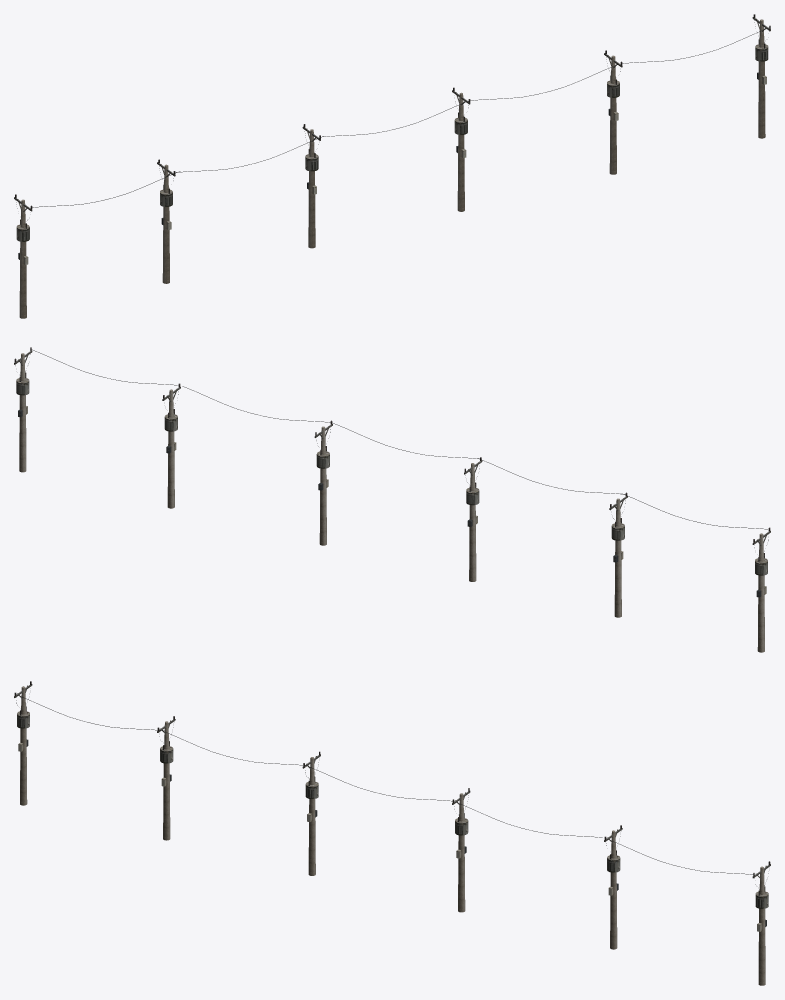
Rendered from postes.glb.
3 renders of one model, top to bottom at view 1: azimuth 30°, elevation 25°; view 2: azimuth 150°, elevation 25°; view 3: azimuth 330°, elevation 25°, orthographic.
Parts seen in each view (by area): view 1: Vert.015, Vert.012, Vert.019, Vert.010, Vert.014, Vert.017; view 2: Vert.015, Vert.012, Vert.017, Vert.014, Vert.010, Vert.019; view 3: Vert.015, Vert.012, Vert.014, Vert.017, Vert.010, Vert.019.
Part boxes in pixels (x1,y1,x2,y2): Vert.015: (752,14,770,138); Vert.012: (302,124,320,248); Vert.019: (14,194,32,318); Vert.010: (452,87,470,211); Vert.014: (604,50,622,174); Vert.017: (157,159,175,283); Vert.015: (14,347,32,472); Vert.012: (464,457,482,581); Vert.017: (609,492,627,617); Vert.014: (162,383,180,508); Vert.010: (314,420,332,545); Vert.019: (752,527,770,652); Vert.015: (752,861,770,985); Vert.012: (302,751,320,875); Vert.014: (604,825,622,949); Vert.017: (157,716,175,840); Vert.010: (452,788,470,912); Vert.019: (14,681,32,805).
Bounding box in the file's own units: 637 × 95.02 × 25.53.
5 materials, 2 textured.
